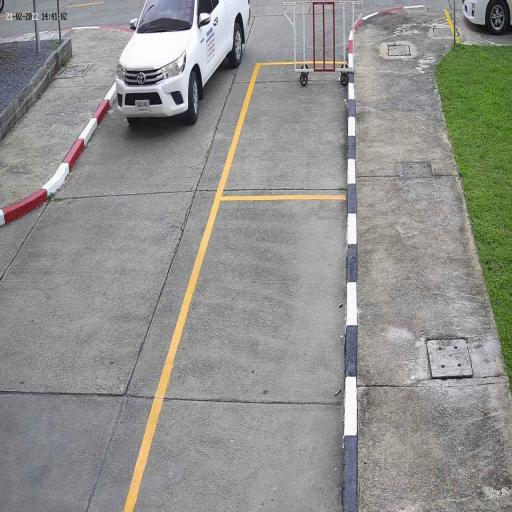car: (115, 0, 251, 129)
